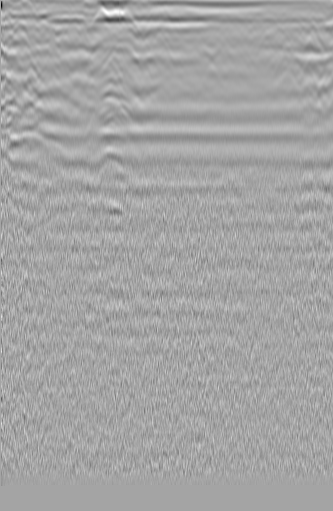가스: (90, 147, 129, 179)
상수: (3, 21, 36, 52)
오수: (293, 20, 325, 61)
우수: (138, 30, 168, 57)
